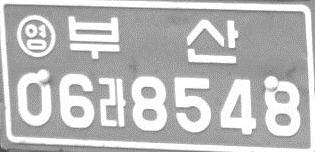0: (16, 71, 52, 127)
4: (218, 78, 256, 136)
5: (173, 75, 212, 133)
6: (58, 72, 95, 129)
8: (263, 79, 301, 138), (129, 75, 168, 132)
라: (96, 76, 127, 127)
부산_D: (67, 14, 239, 64)
영: (16, 13, 56, 57)
